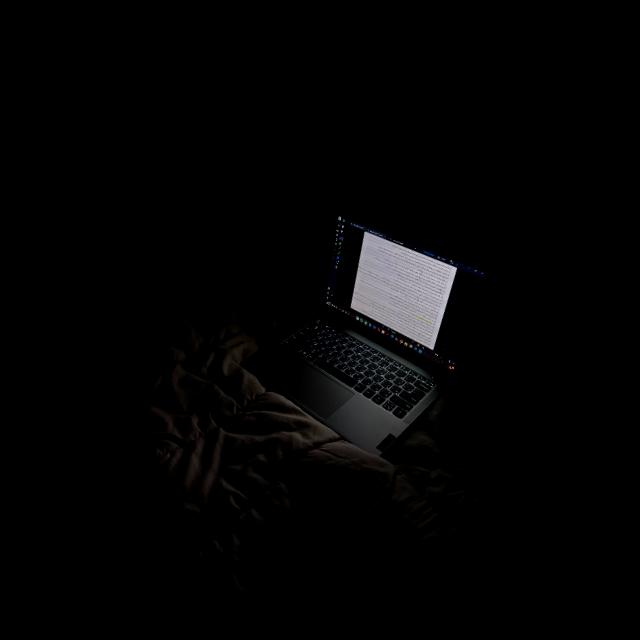laptop: (241, 213, 489, 455), (354, 418, 356, 420)
